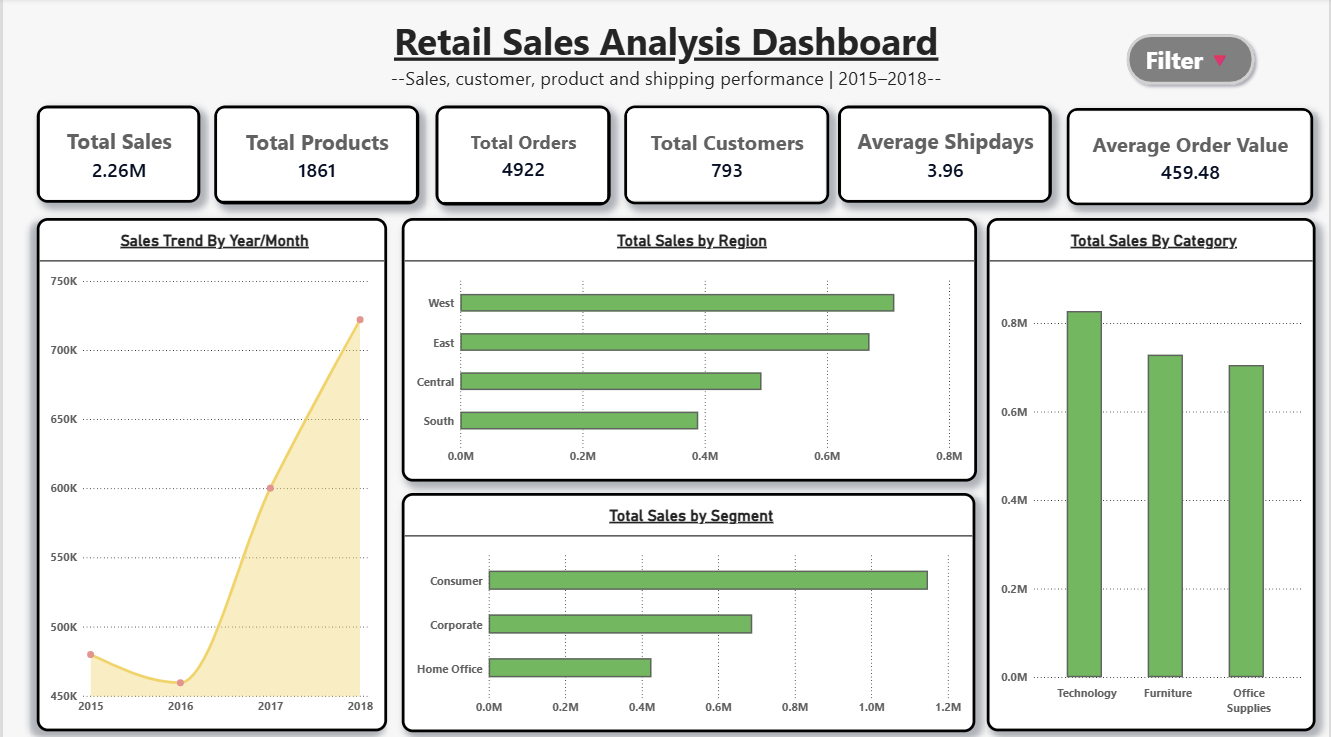

The dashboard page shown, as its layout file describes it:
{"tool":"powerbi","page":{"name":"Page 1","canvas":[1920,1080],"ordinal":0},"visuals":[{"type":"cardVisual","fields":{"Data":["train.Total Sales"]},"box":[48.9,155.6,237.1,141.2],"z":0},{"type":"cardVisual","fields":{"Data":["train.Total Products"]},"box":[305.8,155.6,296.8,143],"z":1000},{"type":"cardVisual","fields":{"Data":["train.Total Orders"]},"box":[626.1,155.6,253.4,144.8],"z":2000},{"type":"cardVisual","fields":{"Data":["train.Total Customers"]},"box":[899.4,155.6,296.8,143],"z":3000},{"type":"cardVisual","fields":{"Data":["train.Average Order Value"]},"box":[1540.3,158.4,356.5,141.2],"z":4000},{"type":"cardVisual","fields":{"Data":["train.Average Shipdays"]},"box":[1208.9,155.6,309.5,141.2],"z":5000},{"type":"textbox","box":[557.6,26.1,805.4,127.2],"z":6000},{"type":"lineChart","title":"Sales Trend By Year/Month","fields":{"Category":["train.Year Month.Variation.Date Hierarchy.Year","train.Year Month.Variation.Date Hierarchy.Month"],"Y":["train.Total Sales"]},"box":[48,319.3,507.1,743],"z":7000},{"type":"clusteredColumnChart","title":"Total Sales By Category","fields":{"Category":["train.Category"],"Y":["train.Total Sales"]},"box":[1423.3,319.3,475.8,743],"z":8000},{"type":"clusteredBarChart","fields":{"Category":["train.Region"],"Y":["train.Total Sales"]},"box":[577.3,318.5,832.4,381.8],"z":9000},{"type":"clusteredBarChart","fields":{"Category":["train.Segment"],"Y":["train.Total Sales"]},"box":[578.1,715.8,830.6,346.4],"z":10000},{"type":"actionButton","title":"filter Button","box":[1618.2,44.2,202.6,90.9],"z":18000}]}

Visuals, with their boxes in screenshot pixels (x1, y1, x2, y2), scaled from the page's 1920x1080 canvas onto the 1331x737 screenshot:
cardVisual - train.Total Sales: select_region(34, 106, 198, 203)
cardVisual - train.Total Products: select_region(212, 106, 418, 204)
cardVisual - train.Total Orders: select_region(434, 106, 610, 205)
cardVisual - train.Total Customers: select_region(623, 106, 829, 204)
cardVisual - train.Average Order Value: select_region(1068, 108, 1315, 204)
cardVisual - train.Average Shipdays: select_region(838, 106, 1053, 203)
textbox: select_region(387, 18, 945, 105)
"Sales Trend By Year/Month" lineChart: select_region(33, 218, 385, 725)
"Total Sales By Category" clusteredColumnChart: select_region(987, 218, 1317, 725)
clusteredBarChart - train.Region x train.Total Sales: select_region(400, 217, 977, 478)
clusteredBarChart - train.Segment x train.Total Sales: select_region(401, 488, 977, 725)
"filter Button" actionButton: select_region(1122, 30, 1262, 92)
